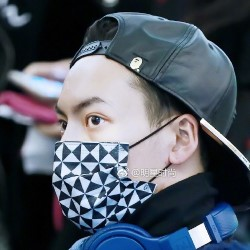mask: (39, 106, 199, 232)
